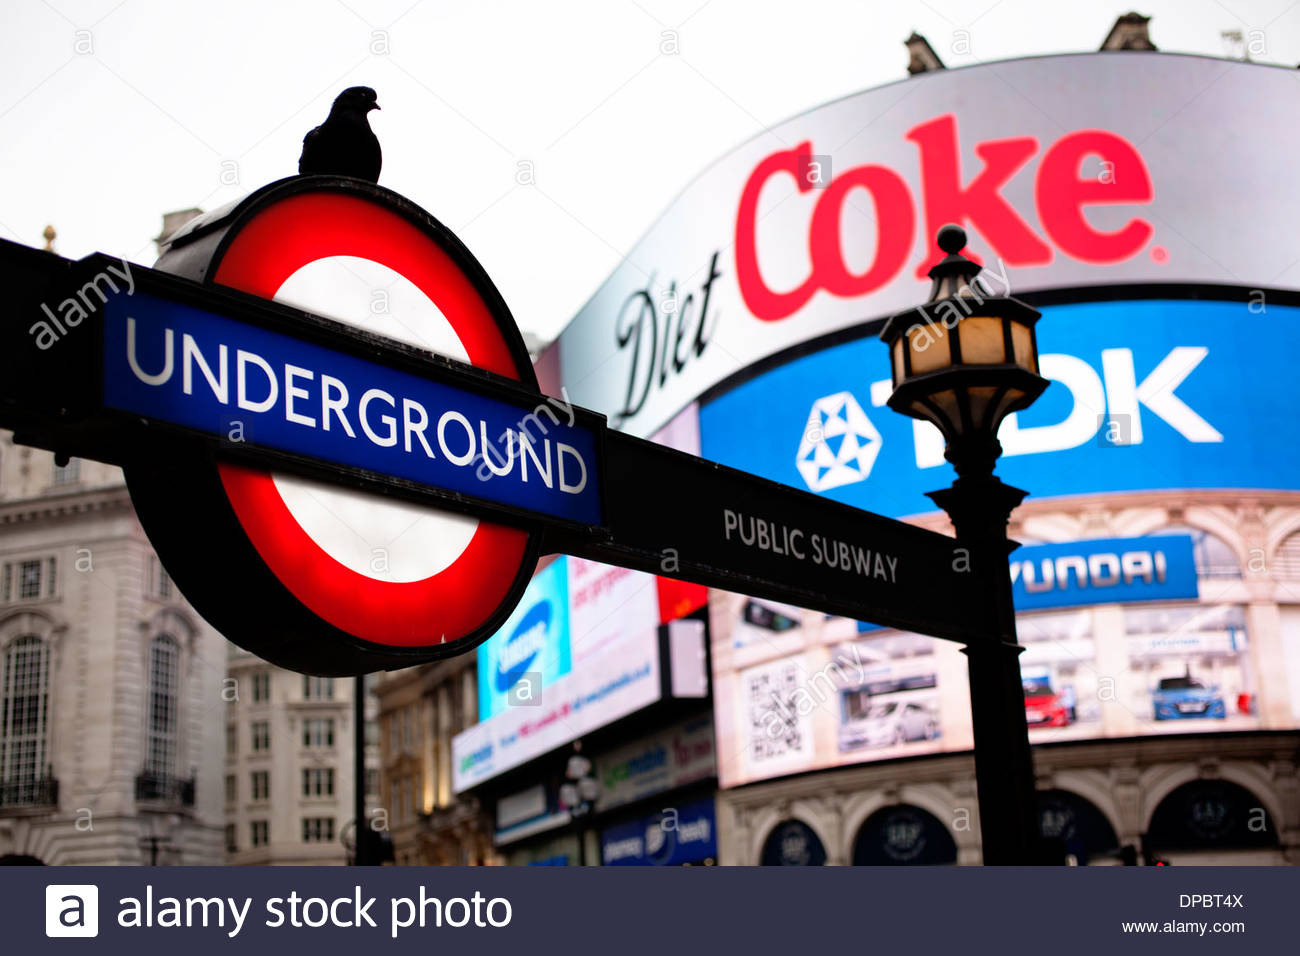London Underground: (109, 192, 603, 683)
